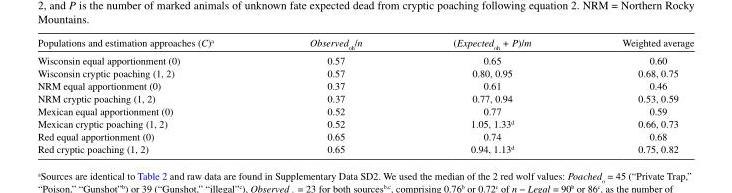table: (36, 36, 693, 154)
table column: (36, 36, 261, 154), (407, 36, 576, 154), (261, 36, 407, 154), (576, 36, 693, 154)
table column header: (36, 36, 693, 52)
table row: (36, 36, 693, 52), (36, 52, 693, 66), (36, 66, 693, 79), (36, 91, 693, 104), (36, 104, 693, 117), (36, 129, 693, 142), (36, 79, 693, 91), (36, 117, 693, 129), (36, 142, 693, 154)
